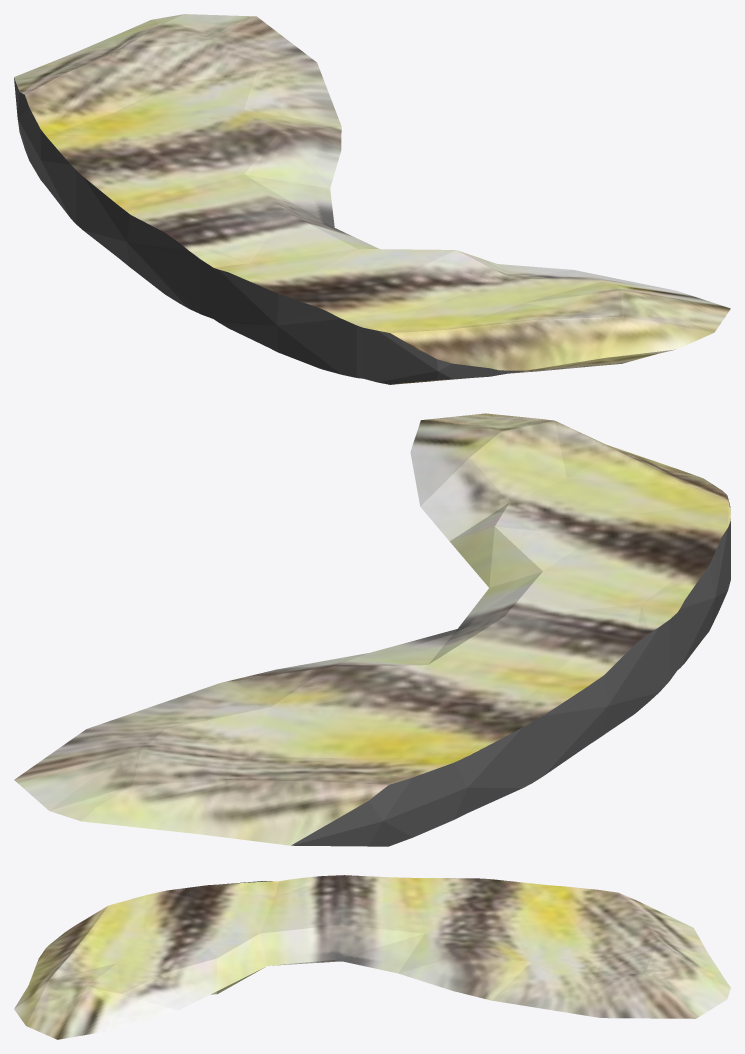
3 views of the same model, one above another, from view 1: azimuth 30°, elevation 25°; view 2: azimuth 150°, elevation 25°; view 3: azimuth 270°, elevation 25° (orthographic). The views are drawn at different scales.
Visible parts, largest first — view 1: link_15_visual; view 2: link_15_visual; view 3: link_15_visual.
Part boxes in pixels (x1,y1,x2,y2): link_15_visual: [14, 14, 730, 384]; link_15_visual: [14, 413, 730, 846]; link_15_visual: [14, 875, 730, 1039].
Bounding box in the file's own units: 0.00191 × 0.000294 × 0.00404.
1 material, 1 textured.
